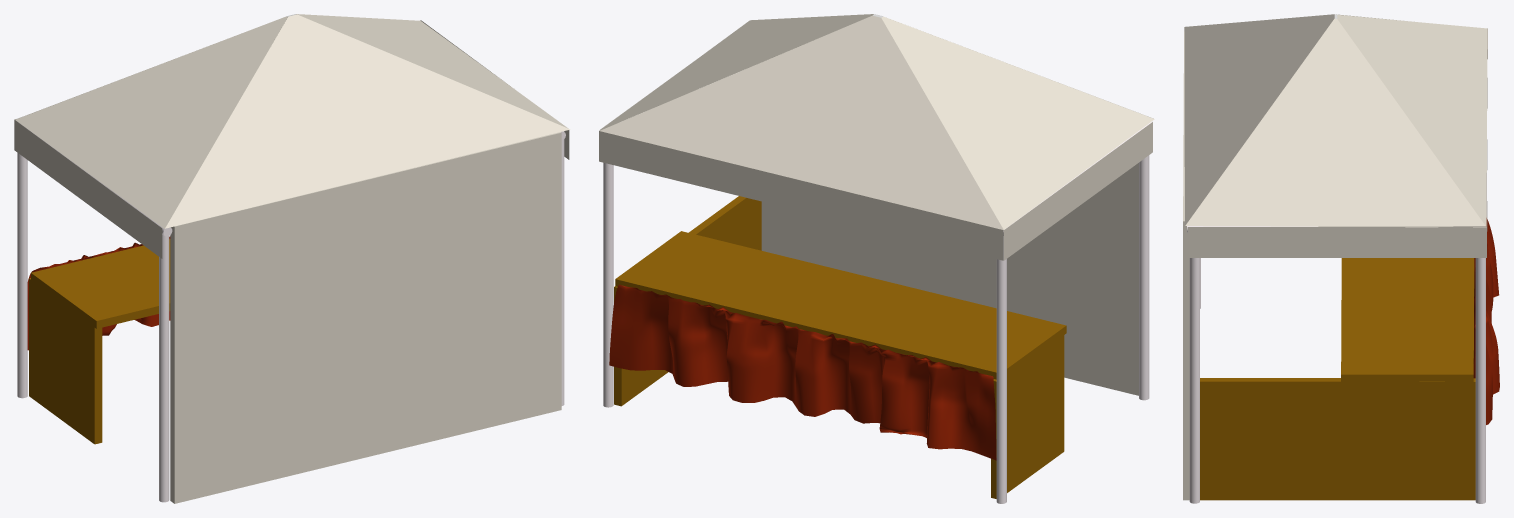
File: ColoredBoothModel.fbx
The picture shows the model from 3 angles, left to right: view 1: azimuth 30°, elevation 25°; view 2: azimuth 150°, elevation 25°; view 3: azimuth 270°, elevation 25°; orthographic projection.
Parts seen in each view (by area): view 1: Back panel, Plane.005, Plane.006, Side panel 2, Table top, Plane.007, Plane.002, Tent pole 2, Tent pole 4, Tent pole 1, Cloth; view 2: Plane.004, Back panel, Cloth, Table top, Plane.006, Plane.001, Side panel 2, Plane.007, Plane.002, Side panel 1, Tent pole 4, Tent pole 2 (+1 smaller); view 3: Side panel 1, Plane.007, Table top, Plane.005, Plane.004, Plane.003, Tent pole 3.001, Tent pole 1, Cloth, Back panel.
Boxes of the visible parts, box(x1,y1,x2,y2) form: Back panel: box(170, 132, 561, 503); Plane.005: box(165, 14, 570, 228); Plane.006: box(15, 16, 287, 228); Side panel 2: box(29, 278, 102, 444); Table top: box(31, 239, 170, 328); Plane.007: box(296, 14, 568, 128); Plane.002: box(14, 120, 162, 258); Tent pole 2: box(159, 234, 169, 502); Tent pole 4: box(17, 152, 27, 398); Tent pole 1: box(561, 131, 564, 405); Cloth: box(27, 236, 170, 350); Plane.004: box(600, 15, 1003, 229); Back panel: box(761, 163, 1138, 395); Cloth: box(609, 284, 996, 460); Table top: box(615, 231, 1066, 379); Plane.006: box(881, 16, 1154, 229); Plane.001: box(599, 131, 1003, 260); Side panel 2: box(991, 335, 1064, 498); Plane.007: box(600, 14, 873, 130); Plane.002: box(1004, 122, 1152, 260); Side panel 1: box(614, 196, 761, 406); Tent pole 4: box(996, 236, 1006, 503); Tent pole 2: box(1139, 155, 1149, 400); Side panel 1: box(1200, 378, 1475, 500); Plane.007: box(1185, 18, 1486, 227); Table top: box(1341, 258, 1474, 381); Plane.005: box(1184, 14, 1334, 225); Plane.004: box(1337, 15, 1487, 226); Plane.003: box(1187, 226, 1486, 257); Tent pole 3.001: box(1475, 258, 1485, 503); Tent pole 1: box(1189, 258, 1199, 503); Cloth: box(1473, 218, 1499, 424); Back panel: box(1183, 31, 1189, 500).
Bounding box in the file's own units: 1530 × 1389 × 1026.
